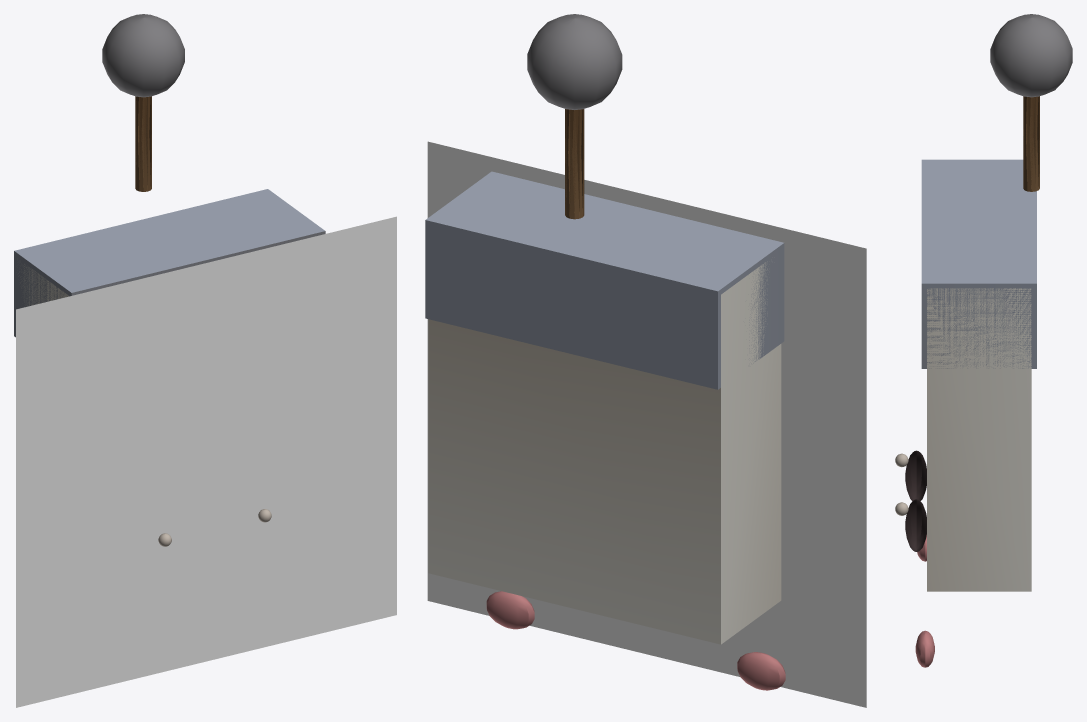
3 views of the same model, side by side, from view 1: azimuth 30°, elevation 25°; view 2: azimuth 150°, elevation 25°; view 3: azimuth 270°, elevation 25° (orthographic). The views are drawn at different scales.
Parts seen in each view (by area): view 1: pet_pd192ac80; view 2: pet_pd192ac80; view 3: pet_pd192ac80.
Boxes of the visible parts, bbox=[...] form: pet_pd192ac80: bbox=[14, 14, 396, 707]; pet_pd192ac80: bbox=[425, 14, 866, 707]; pet_pd192ac80: bbox=[895, 14, 1072, 667].
Bounding box in the file's own units: 0.42 × 0.63 × 0.1698.
